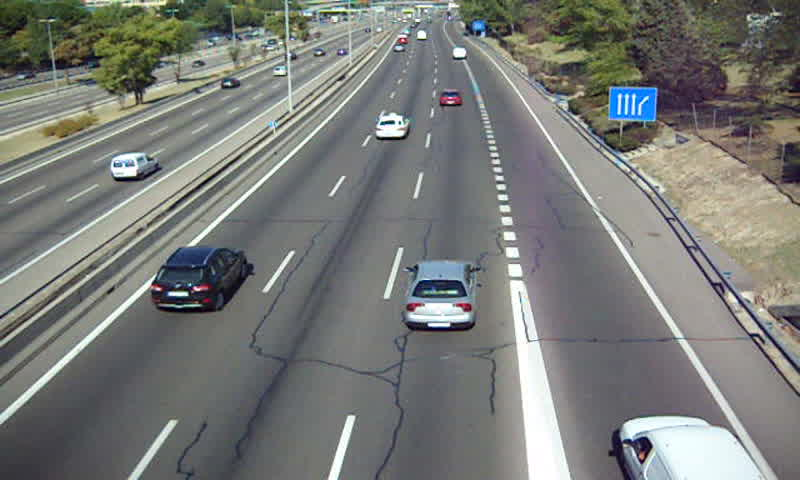car: (150, 246, 247, 312), (406, 262, 476, 330), (374, 112, 410, 140), (439, 88, 461, 106)
